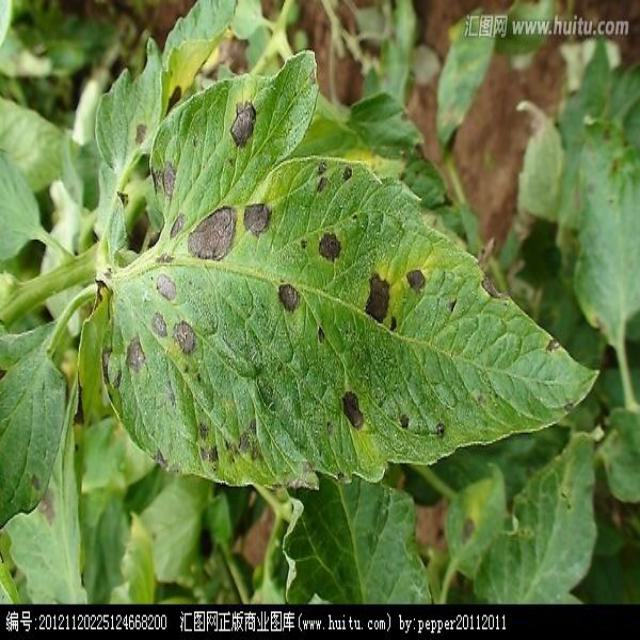Early_blight: (166, 201, 237, 266), (360, 270, 398, 333), (227, 100, 259, 150), (340, 387, 367, 433), (242, 203, 274, 238), (171, 317, 200, 354), (152, 158, 176, 201), (122, 332, 147, 373), (478, 273, 511, 303), (197, 424, 220, 466), (276, 279, 304, 313), (152, 269, 178, 301), (403, 266, 430, 295), (317, 232, 343, 262), (156, 445, 180, 470), (147, 314, 169, 340)
